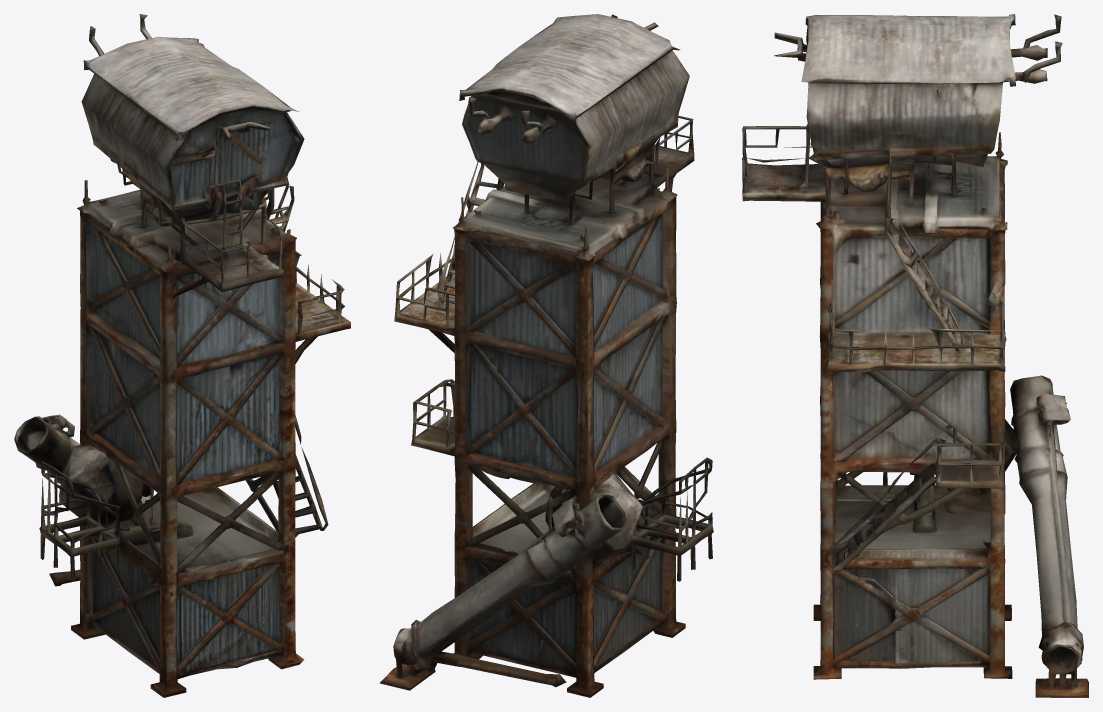
The model's file is qr_crusher.glb.
The picture shows the model from 3 angles, left to right: view 1: azimuth 30°, elevation 25°; view 2: azimuth 150°, elevation 25°; view 3: azimuth 270°, elevation 25°; orthographic projection. The views are drawn at different scales.
Parts seen in each view (by area): view 1: tripo_node_e28537e3-15fd-42d3-b0dd-84acd82842a6; view 2: tripo_node_e28537e3-15fd-42d3-b0dd-84acd82842a6; view 3: tripo_node_e28537e3-15fd-42d3-b0dd-84acd82842a6.
Boxes of the visible parts, box(x1,y1,x2,y2) form: tripo_node_e28537e3-15fd-42d3-b0dd-84acd82842a6: box(14, 14, 350, 697); tripo_node_e28537e3-15fd-42d3-b0dd-84acd82842a6: box(379, 14, 713, 697); tripo_node_e28537e3-15fd-42d3-b0dd-84acd82842a6: box(742, 14, 1088, 697).
Size of the model in its own units: 0.451 by 0.9796 by 0.5002.
1 material, 1 textured.
